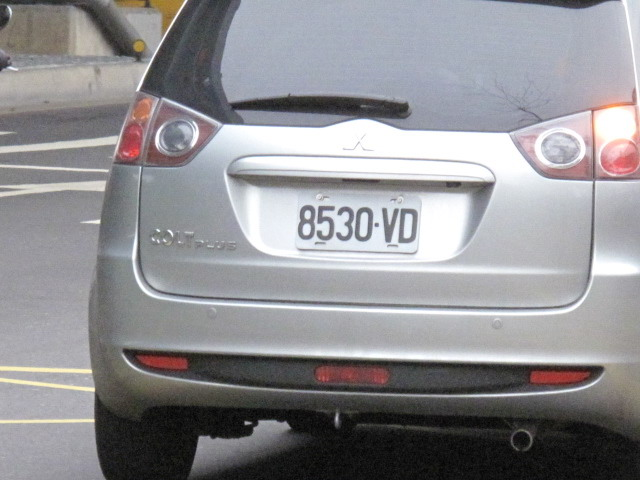plate: (297, 189, 422, 256)
